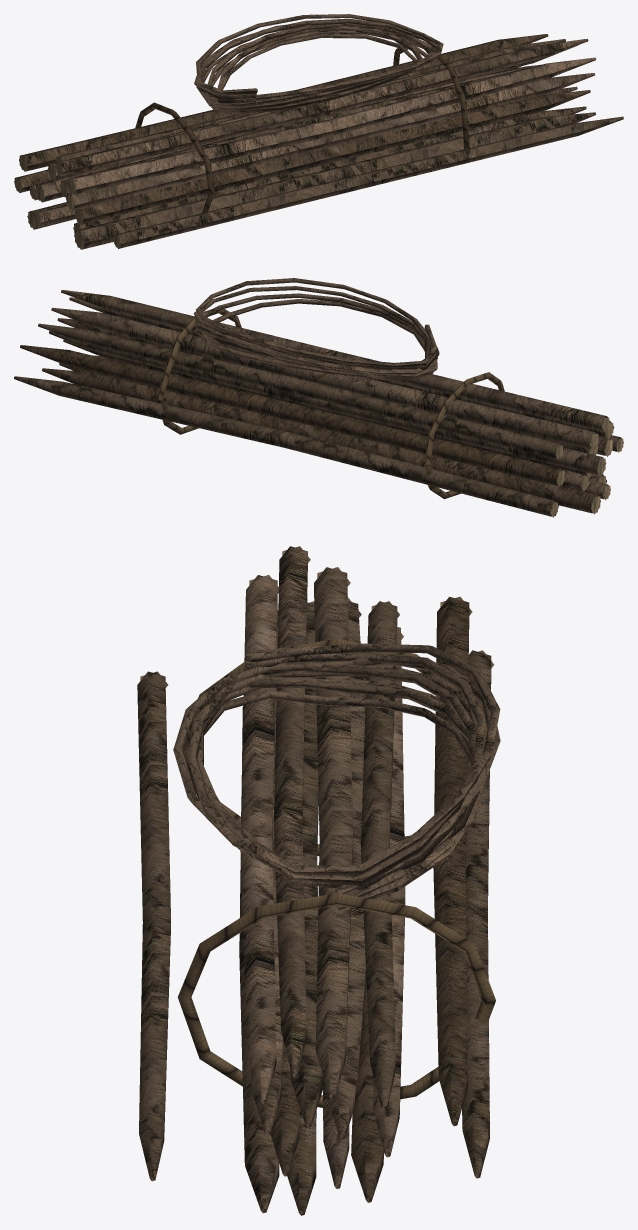
The model's file is kit_tw_stake_bundle.glb.
3 views of the same model, one above another, from view 1: azimuth 30°, elevation 25°; view 2: azimuth 150°, elevation 25°; view 3: azimuth 270°, elevation 25° (orthographic). The views are drawn at different scales.
Visible parts, largest first — view 1: kit_tw_stake_bundle; view 2: kit_tw_stake_bundle; view 3: kit_tw_stake_bundle.
Boxes of the visible parts, x1,y1,x2,y2 form: kit_tw_stake_bundle: (14,14,623,249); kit_tw_stake_bundle: (14,278,623,517); kit_tw_stake_bundle: (137,546,500,1215).
Size of the model in its own units: 1.63 by 0.3961 by 0.4762.
1 material, 1 textured.
